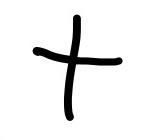plus: (33, 14, 122, 121)
